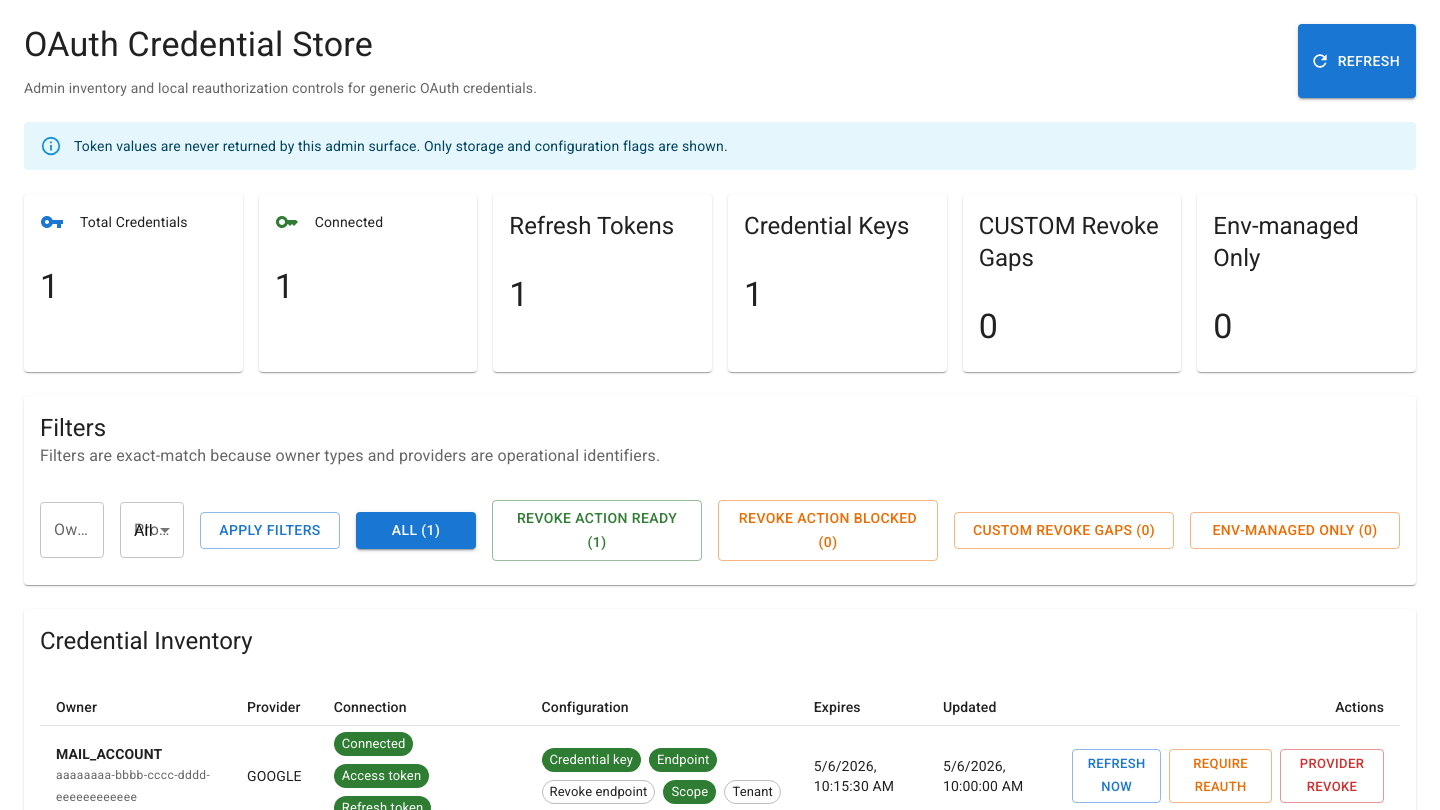
Test: surfaces revoke provider errors and reloads inventory
The width and height of the screenshot is (1440, 810).
Expected: the text "MAIL_ACCOUNT" is shown, [56,746,162,762]
Click the button "Provider Revoke" at (1332,776), box [1280,749,1384,803]
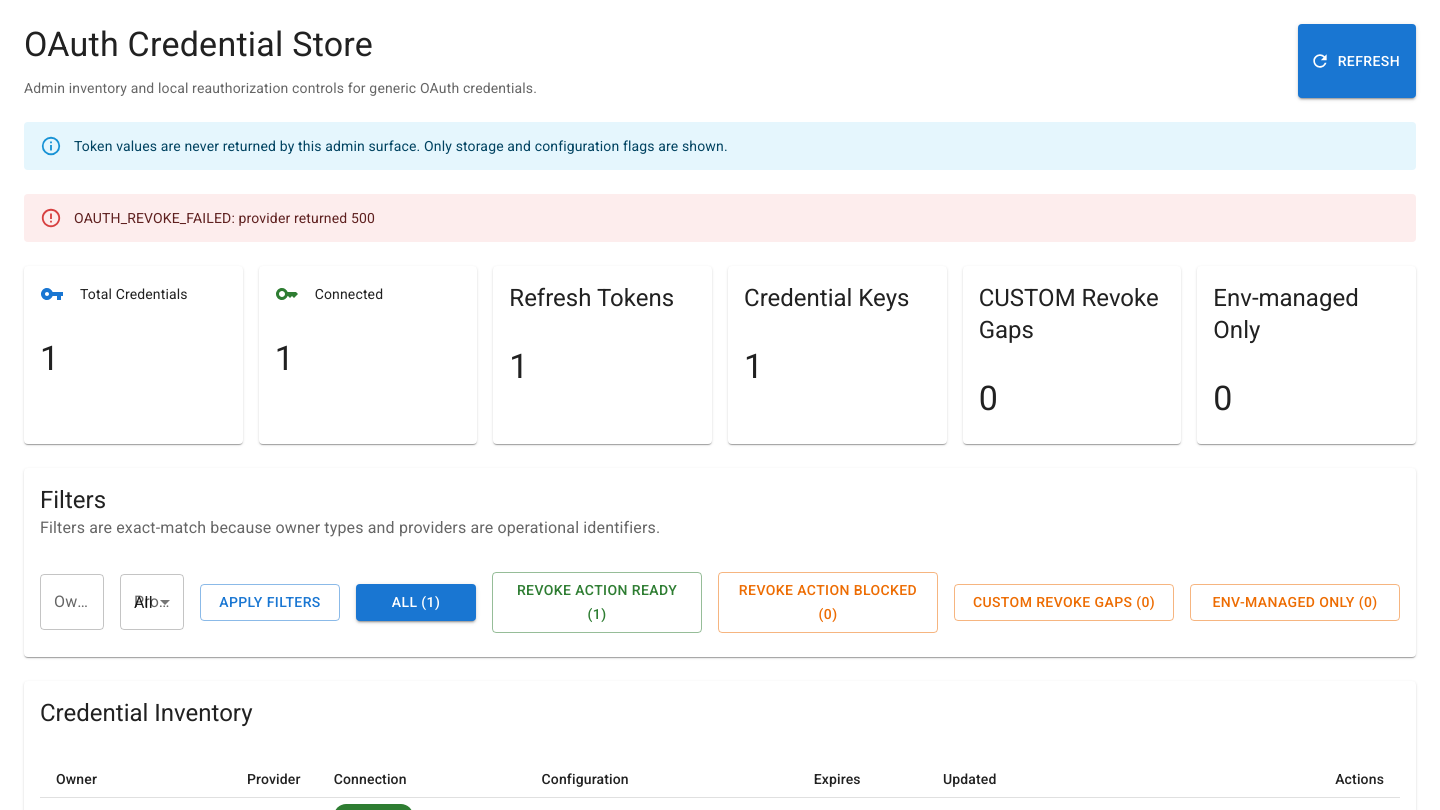
Expected: the text "OAUTH_REVOKE_FAILED: provider returned 500" is shown, [74,210,375,226]
